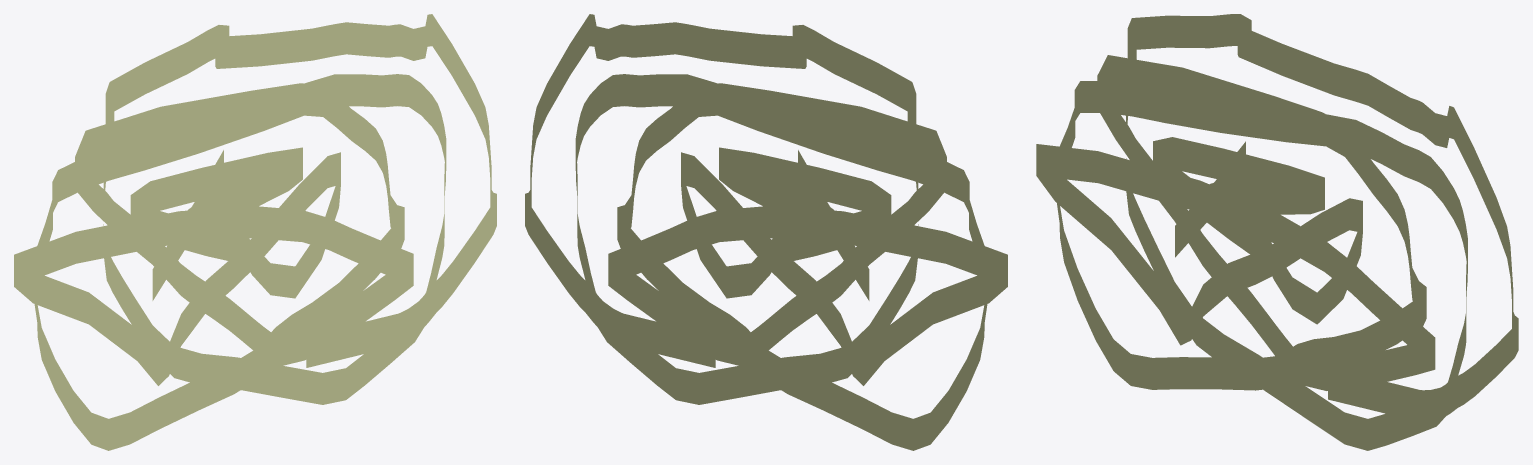
File: raamenmen.fbx
3 renders of one model, left to right at view 1: azimuth 30°, elevation 25°; view 2: azimuth 150°, elevation 25°; view 3: azimuth 330°, elevation 25°, orthographic.
Parts seen in each view (by area): view 1: 開いた線形状の掃引体; view 2: 開いた線形状の掃引体; view 3: 開いた線形状の掃引体.
Boxes of the visible parts, x1,y1,x2,y2 form: 開いた線形状の掃引体: (14,14,496,450); 開いた線形状の掃引体: (525,14,1007,450); 開いた線形状の掃引体: (1036,14,1518,450).
Bounding box in the file's own units: 315 × 253 × 0.
